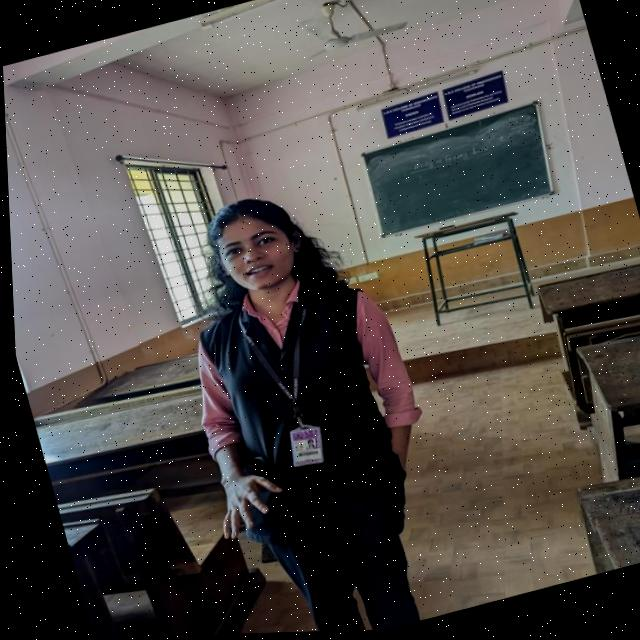id_card: (218, 284, 346, 482)
